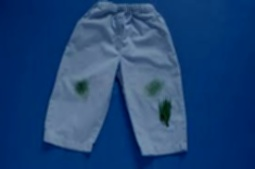earth: (159, 101, 172, 124), (147, 80, 159, 95), (77, 81, 87, 95)
